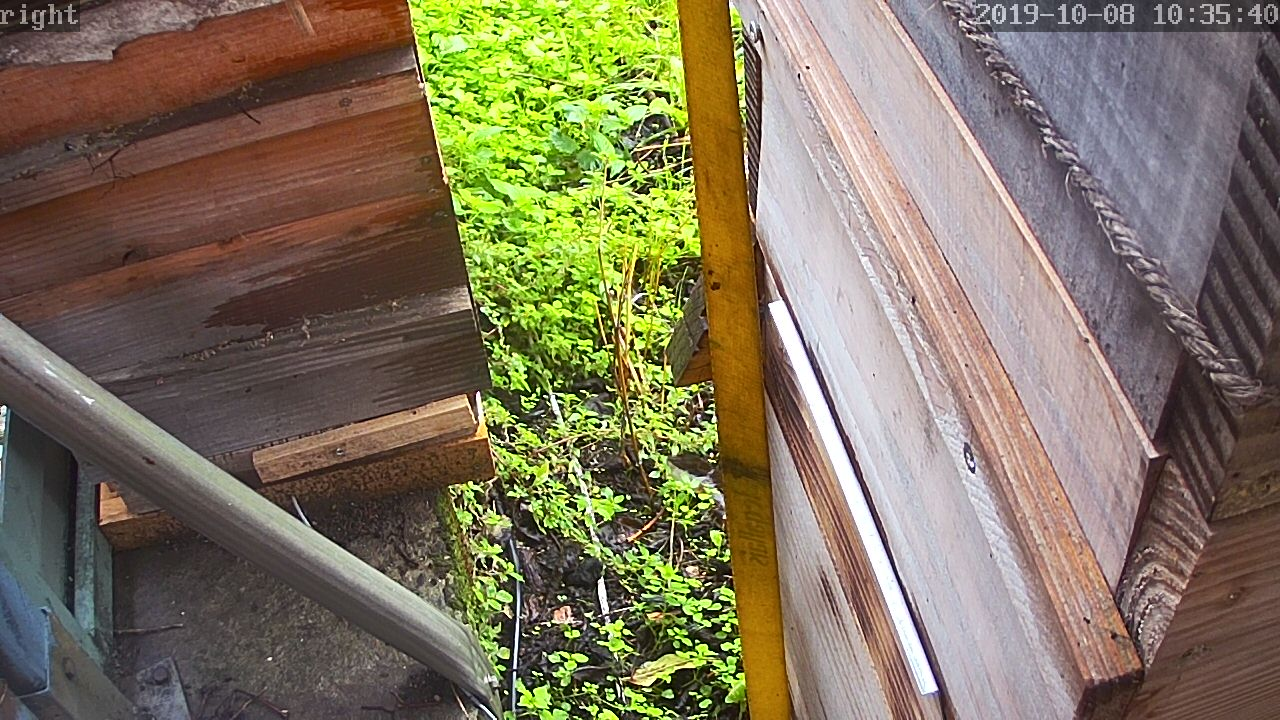hornet: (713, 531, 740, 590)
